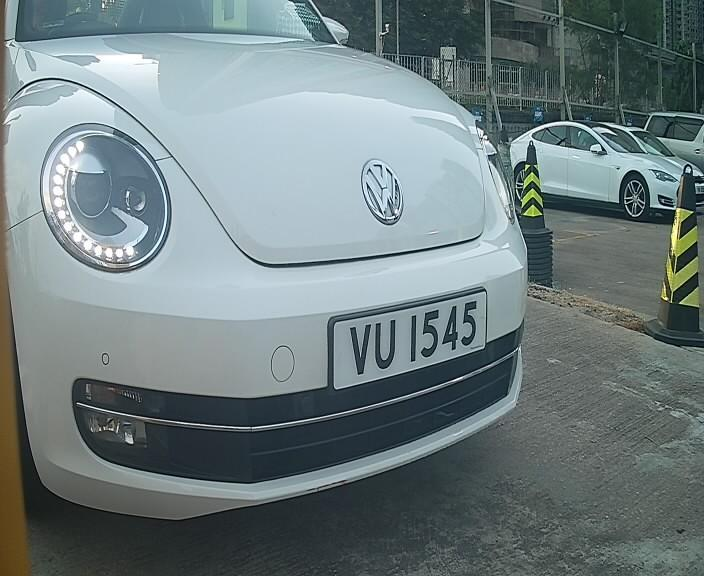License Plate: (305, 278, 496, 403)
